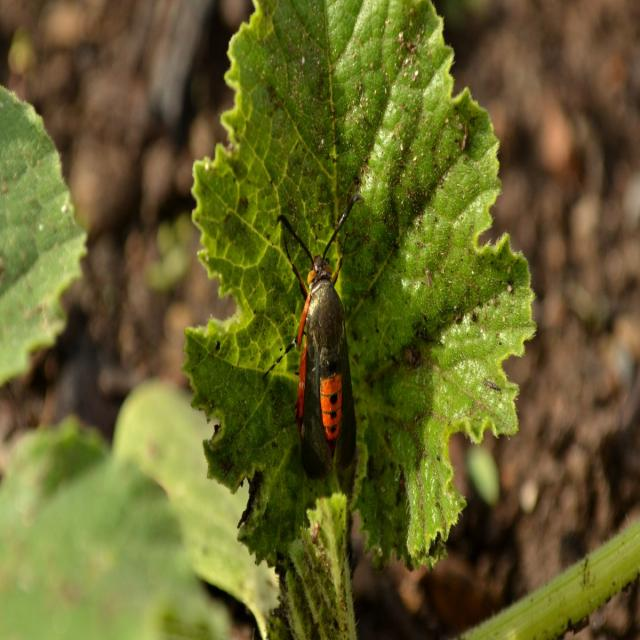squash_vine_borer: (262, 184, 368, 492)
